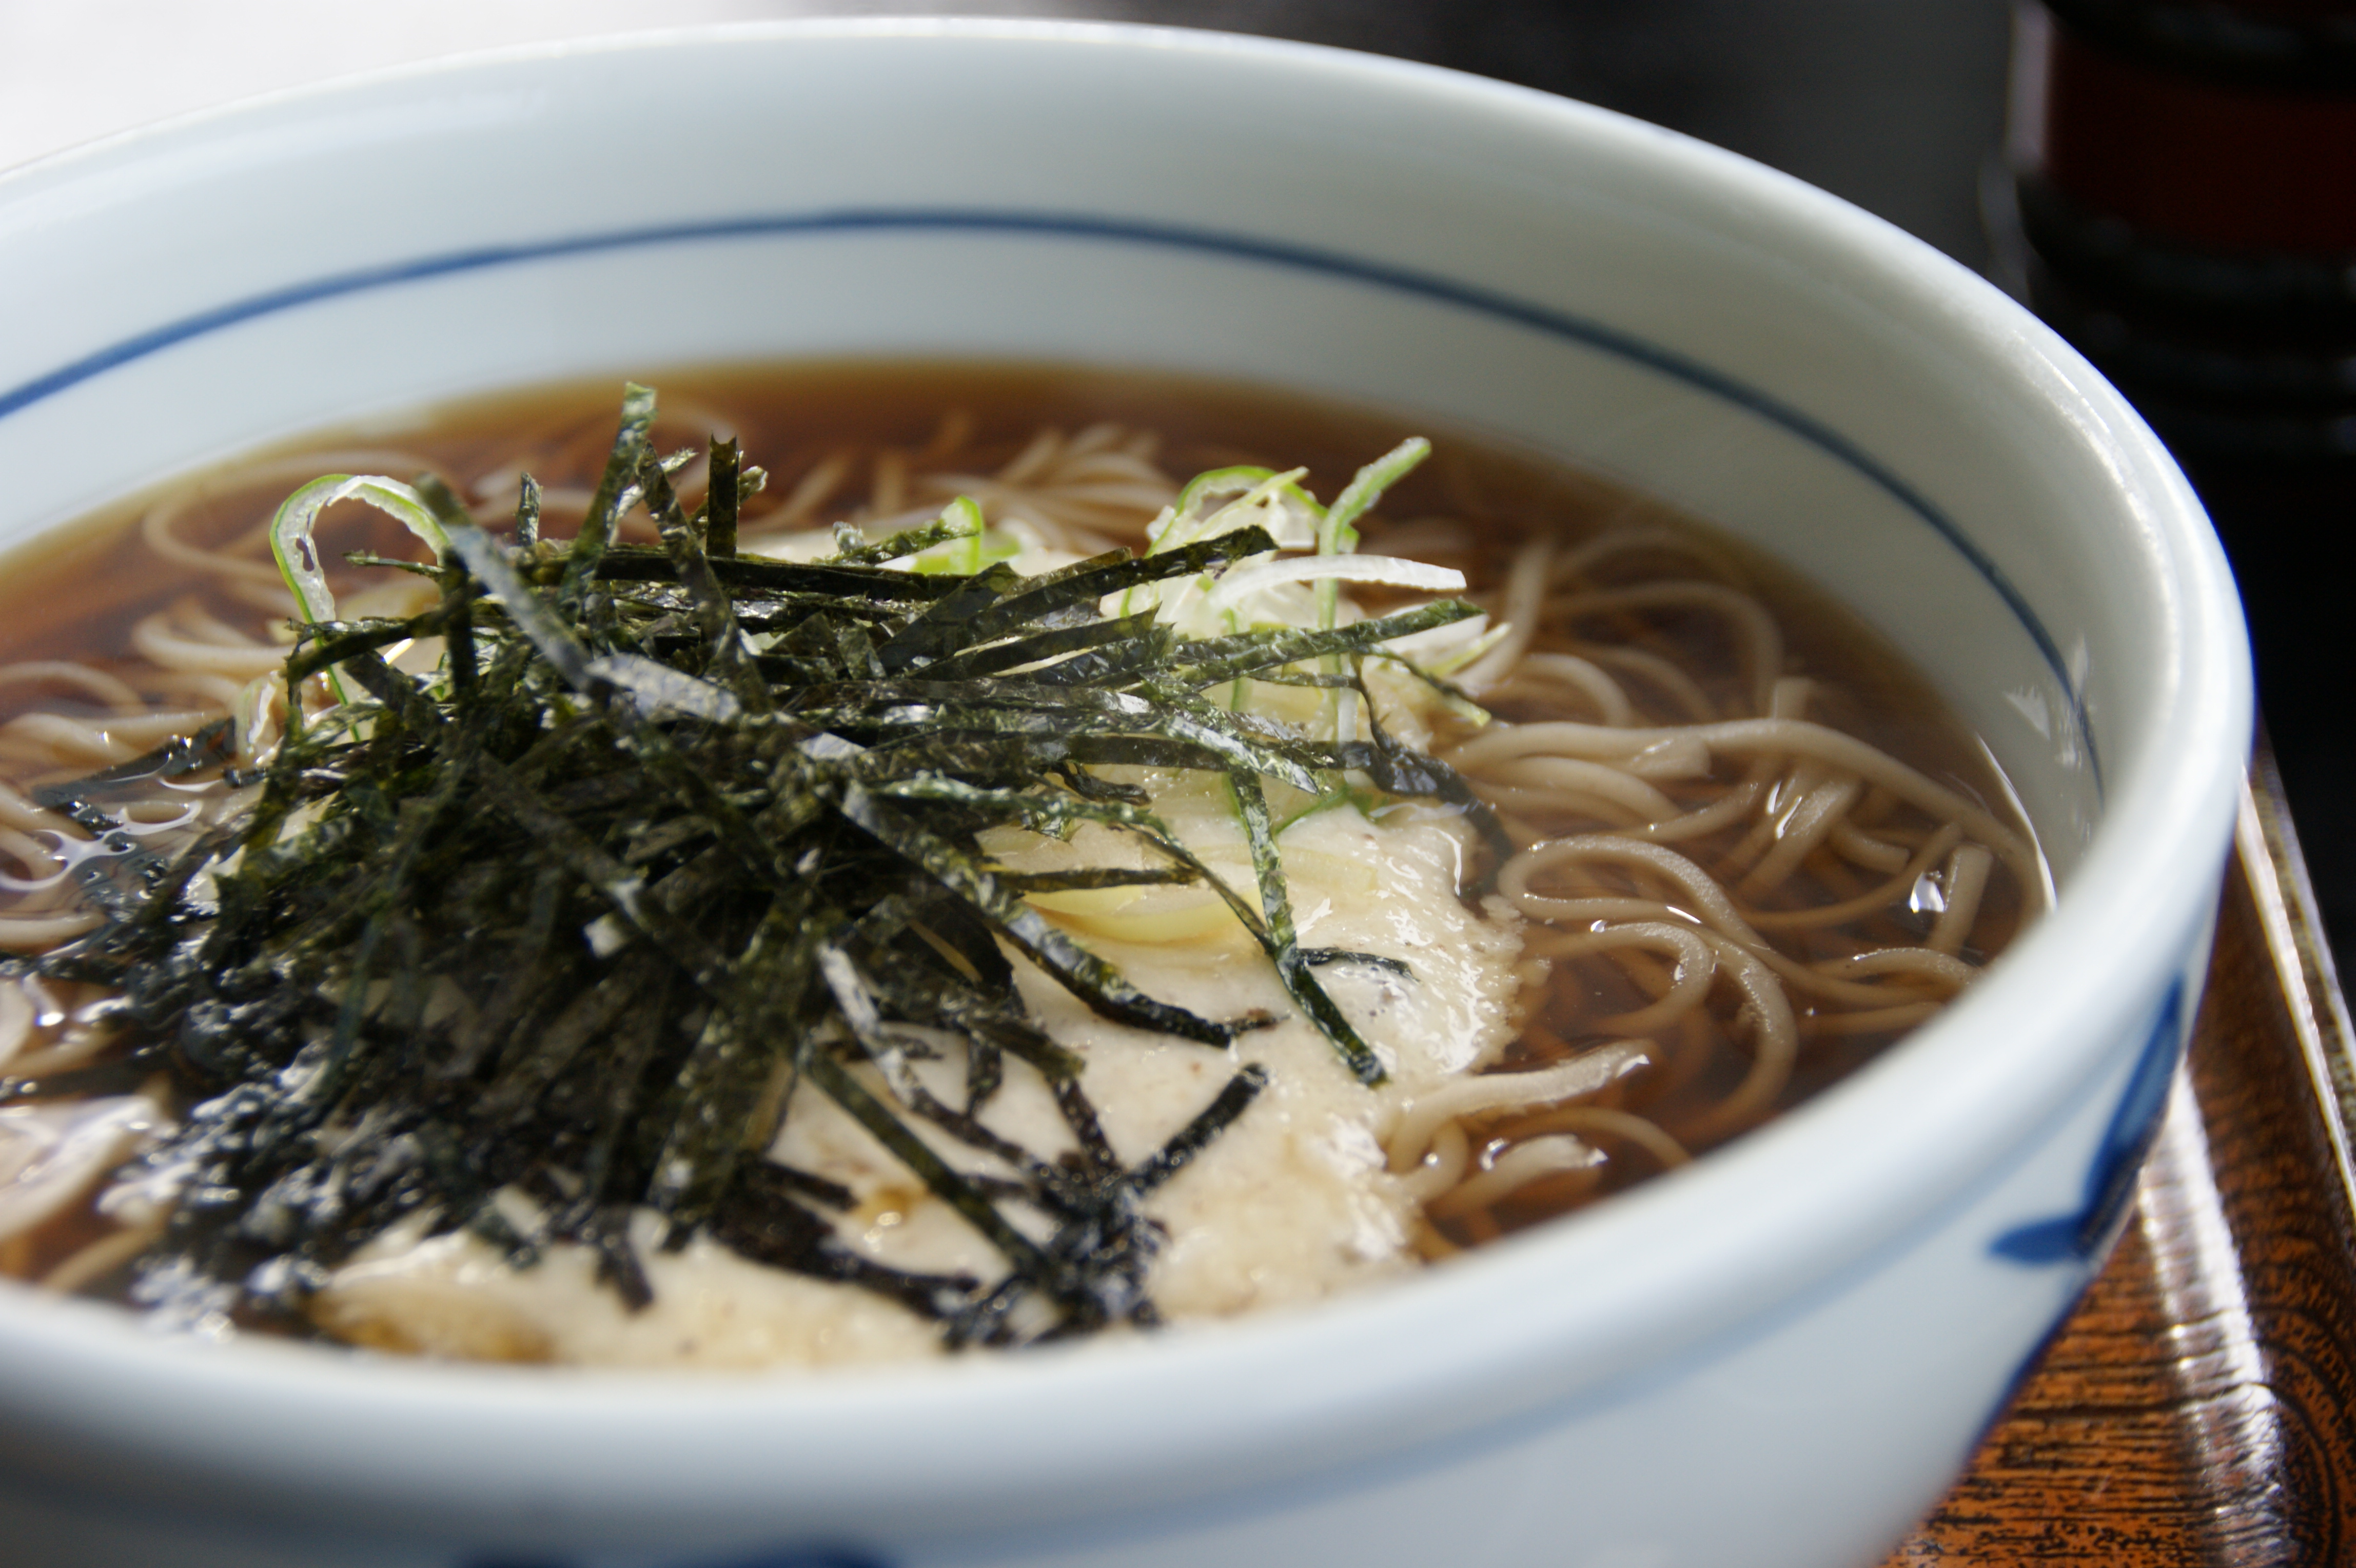Soba: (14, 380, 2032, 1328)
